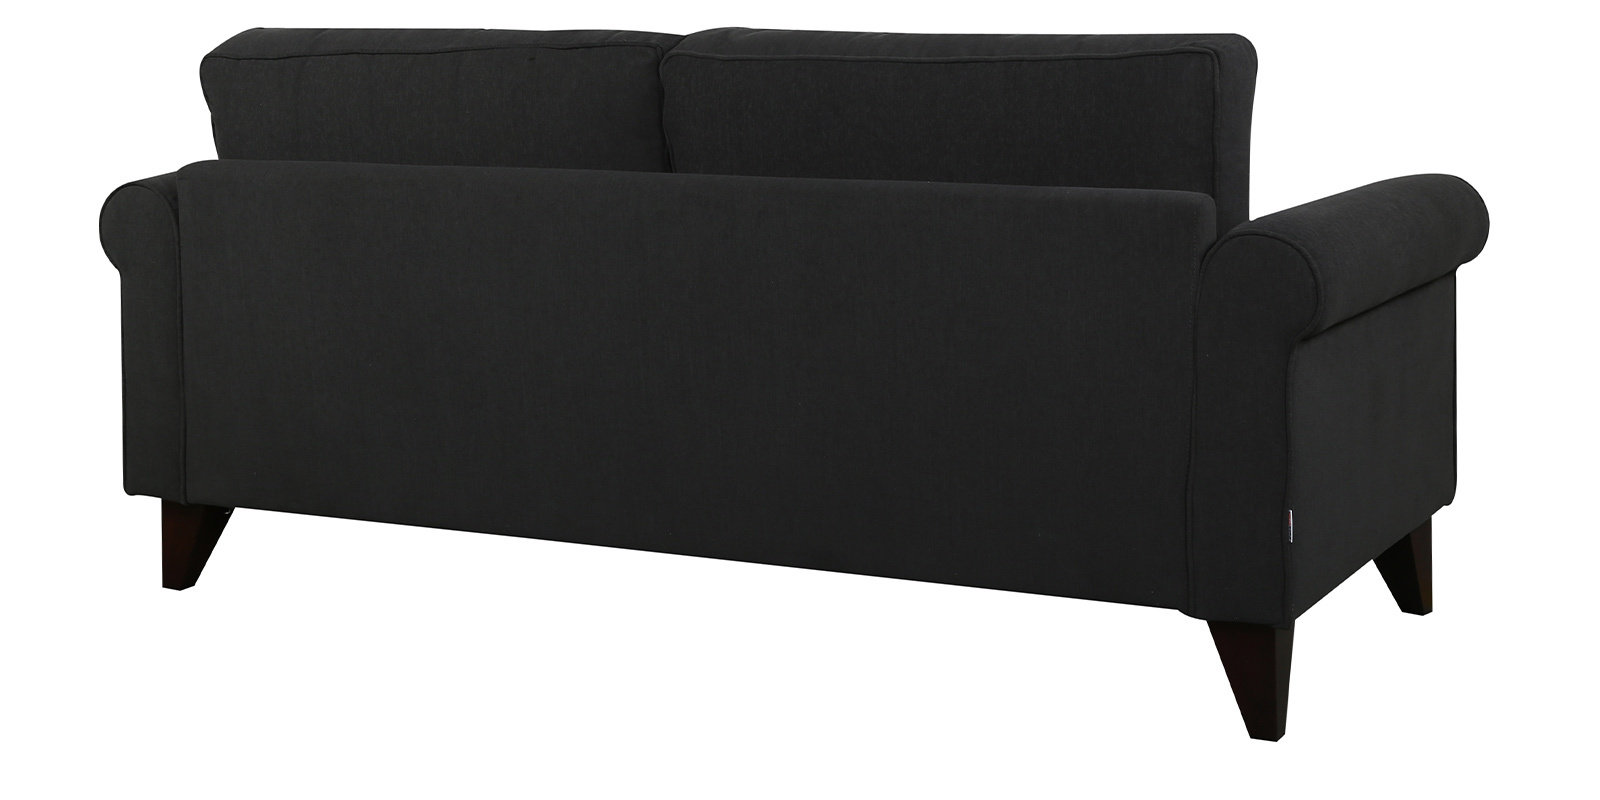Fuego Three Seater Sofa in Charcoal Grey Colour by CasaCraft: (100, 21, 1502, 795)
